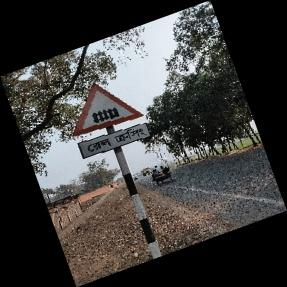Rail-crossing: (72, 84, 149, 163)
